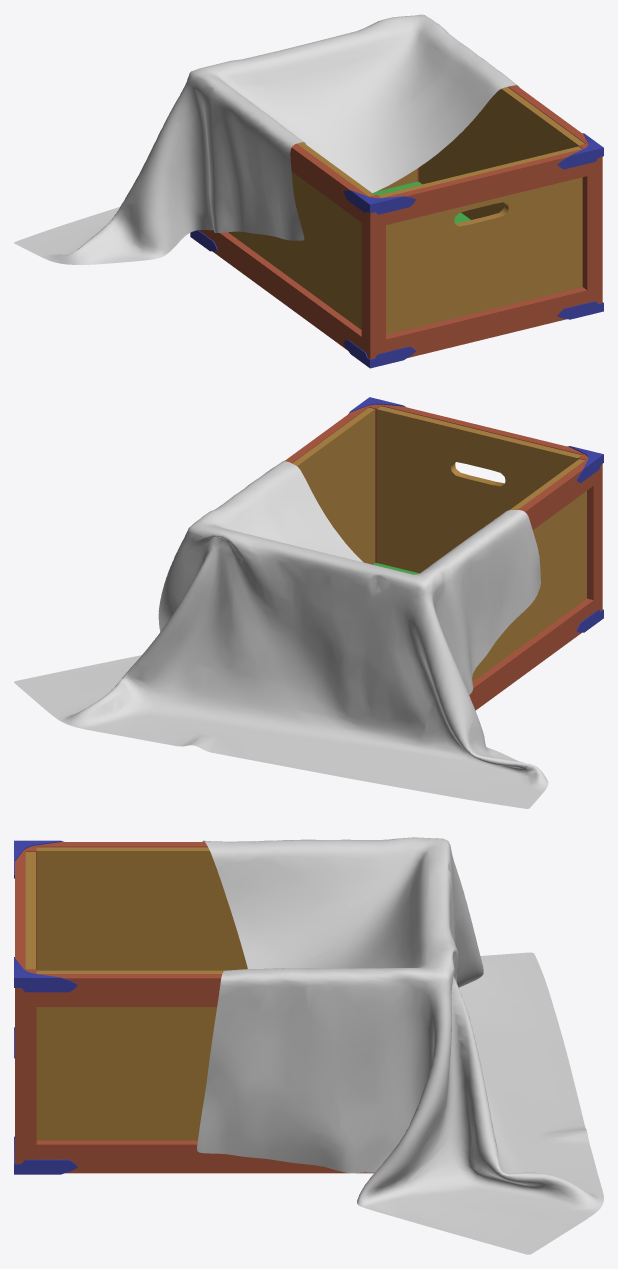
Rendered from WoodCrate_low.fbx.
The picture shows the model from 3 angles, top to bottom: view 1: azimuth 30°, elevation 25°; view 2: azimuth 150°, elevation 25°; view 3: azimuth 270°, elevation 25°; orthographic projection. The views are drawn at different scales.
Visible parts, largest first — view 1: Crate_low, Tarp_low; view 2: Tarp_low, Crate_low; view 3: Tarp_low, Crate_low.
Part boxes in pixels (<box>): Crate_low: <box>190,85,603,368</box>; Tarp_low: <box>14,14,518,264</box>; Tarp_low: <box>14,461,548,808</box>; Crate_low: <box>285,397,603,710</box>; Tarp_low: <box>197,837,603,1254</box>; Crate_low: <box>14,840,374,1174</box>.
Size of the model in its own units: 333 by 104 by 274.
